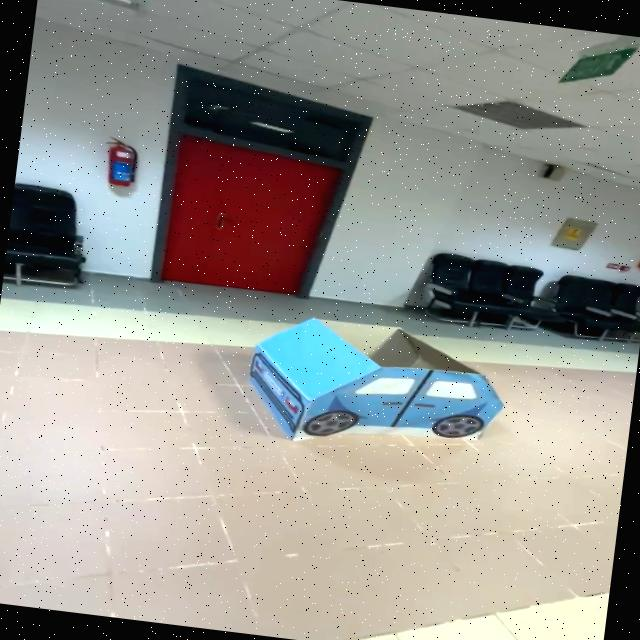blue_car: (217, 299, 533, 476)
